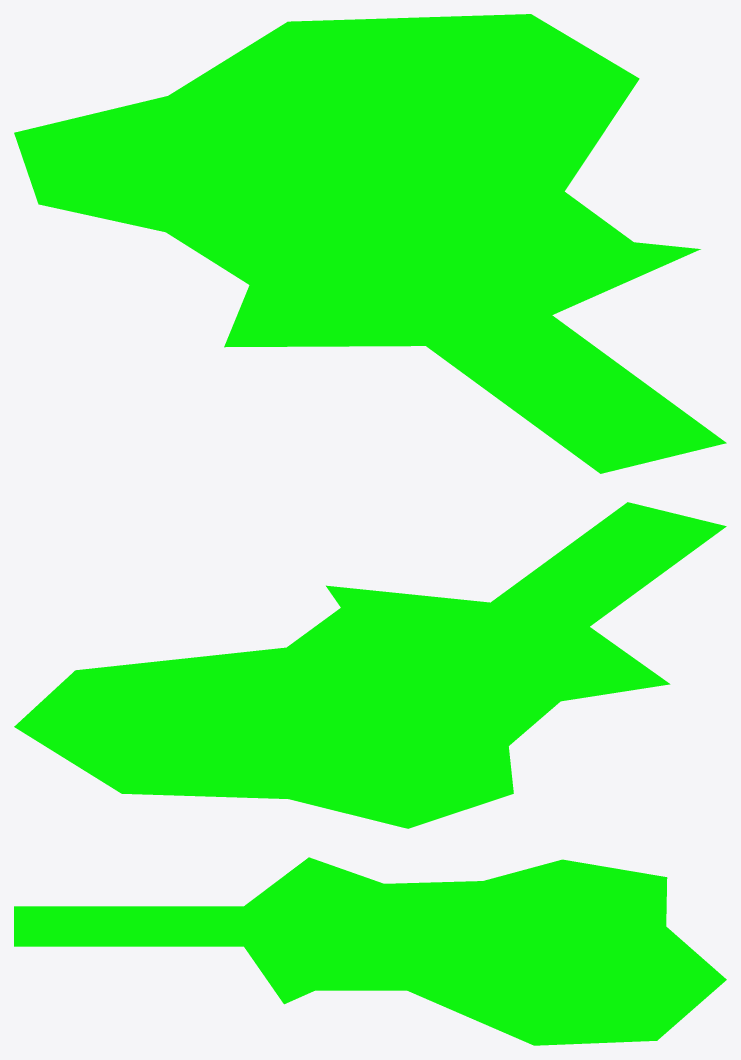
File: s03b_na1-floor.glb
The picture shows the model from 3 angles, top to bottom: view 1: azimuth 30°, elevation 25°; view 2: azimuth 150°, elevation 25°; view 3: azimuth 270°, elevation 25°; orthographic projection. The views are drawn at different scales.
Parts seen in each view (by area): view 1: collision_floor-colonly; view 2: collision_floor-colonly; view 3: collision_floor-colonly.
Boxes of the visible parts, bbox=[...] form: collision_floor-colonly: bbox=[14, 14, 726, 473]; collision_floor-colonly: bbox=[14, 502, 726, 828]; collision_floor-colonly: bbox=[14, 857, 726, 1045].
Bounding box in the file's own units: 27.85 × 0 × 44.53.
